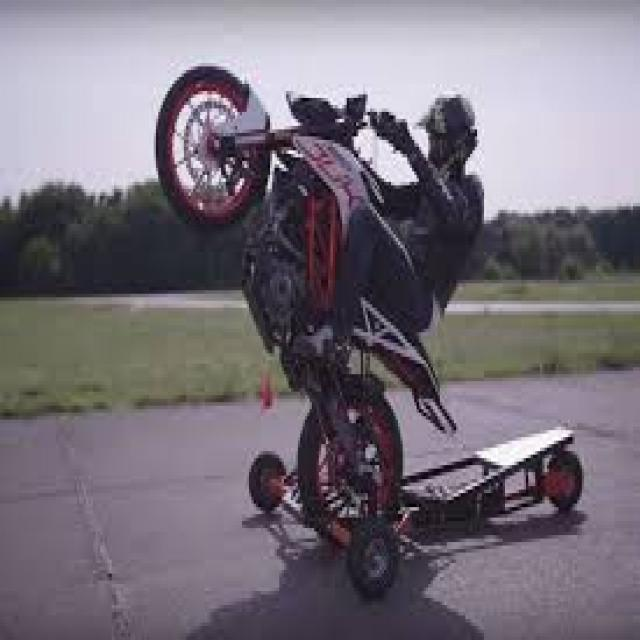Wheeling: (164, 62, 495, 575)
